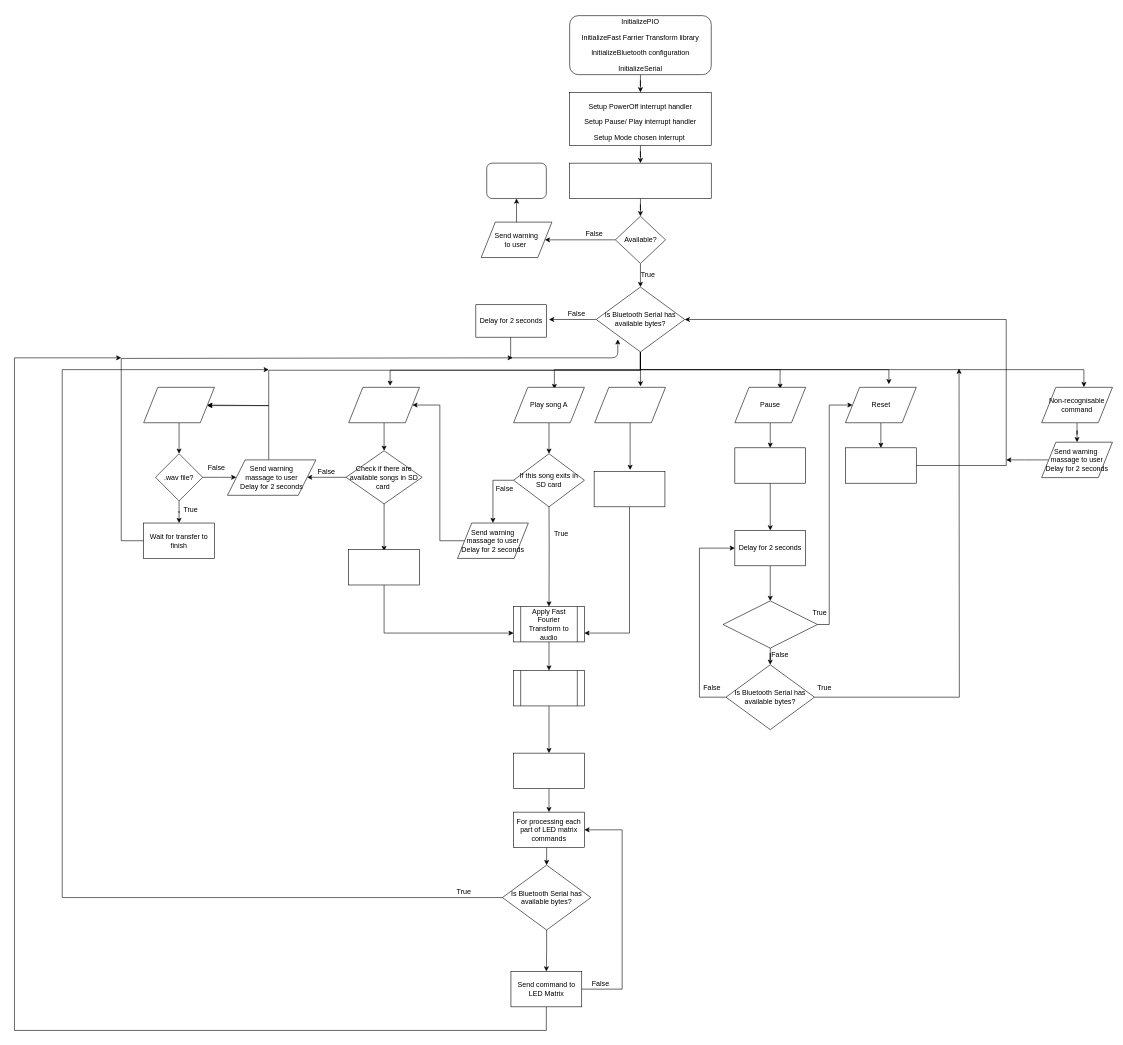
The diagram is 1123 pixels wide and 1045 high, and some of its shapes have lost their labels. The centre of each missing label's shape, as x and y in pixels:
"Check SD card status Check LED matrix status" goes at (640,181).
"Data Transfer" goes at (178,405).
"Divide above results into 20 parts" goes at (548,771).
"Look for the next song alphabetically in SD card" goes at (629,489).
"Next song" goes at (630,405).
"Pick up a song randonmly" goes at (383,567).
"Random playing mode" goes at (383,405).
"Reset all variables" goes at (880,465).
"Stop program" goes at (516,181).
"Time Counter starts" goes at (770,465).
"Transform the result of FFT to control command of LED matrix" goes at (548,688).
"Value of Time counter > 2 mins?" goes at (769,624).
